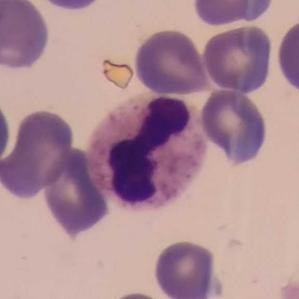Neutrophil: (82, 87, 211, 220)
Platelets: (273, 272, 299, 299)
RBC: (0, 105, 76, 199), (40, 148, 113, 238), (198, 86, 270, 168), (132, 27, 210, 97), (201, 23, 276, 94), (150, 237, 223, 299), (0, 0, 52, 73), (189, 0, 263, 28), (274, 15, 299, 97), (29, 0, 110, 13), (0, 95, 13, 168)
